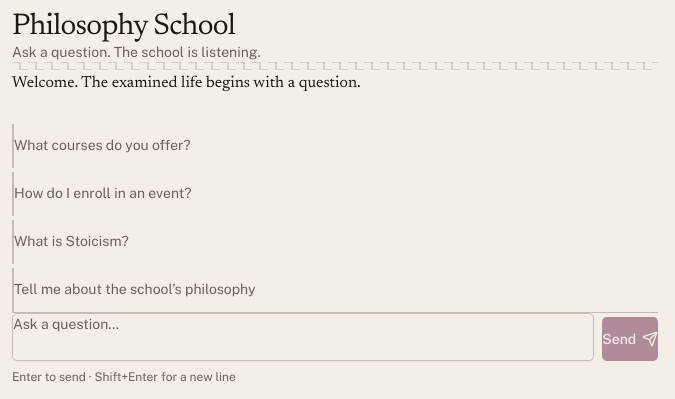
Scenario: usability-001 — empty state: welcome message and starter prompts › replaces the empty state with the transcript after a prompt is clicked
What coordinates should you click on to do the following:
click the button "How do I enroll in an event?"
I would click on:
 (103, 193)
Its box is [12,172,658,216].
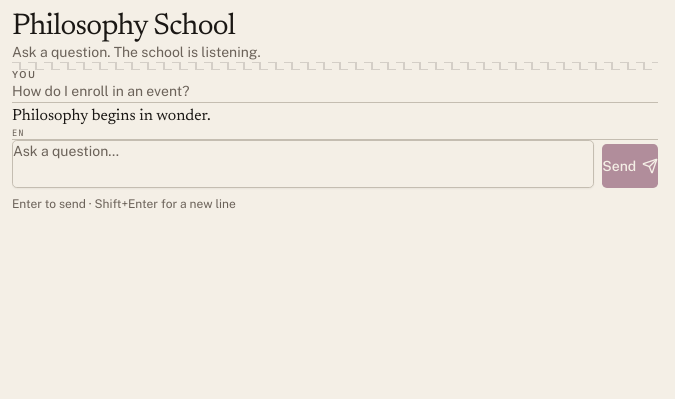
Expected: the text "How do I enroll in an event?" is shown, [12,83,190,99]
Result: the text "Welcome. The examined life begins" is gone
